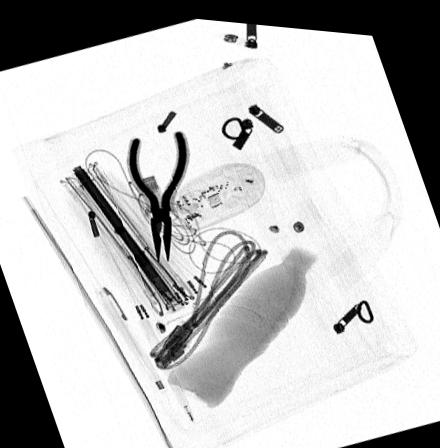Pliers: (126, 125, 188, 260)
